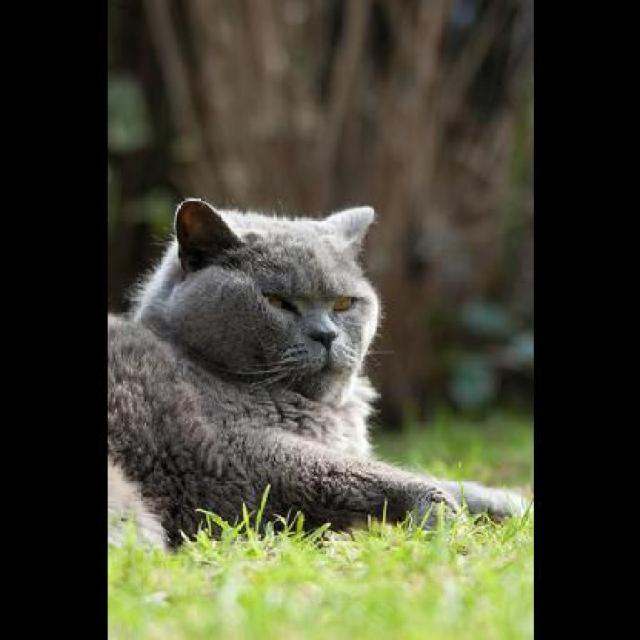unauthorized: (106, 195, 531, 554)
